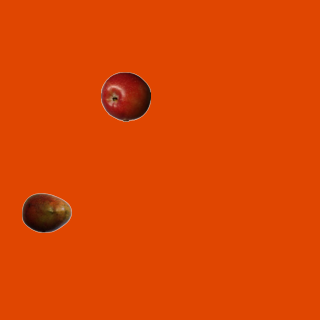Apple Braeburn: (100, 71, 150, 121)
Mango Red: (21, 187, 71, 237)
